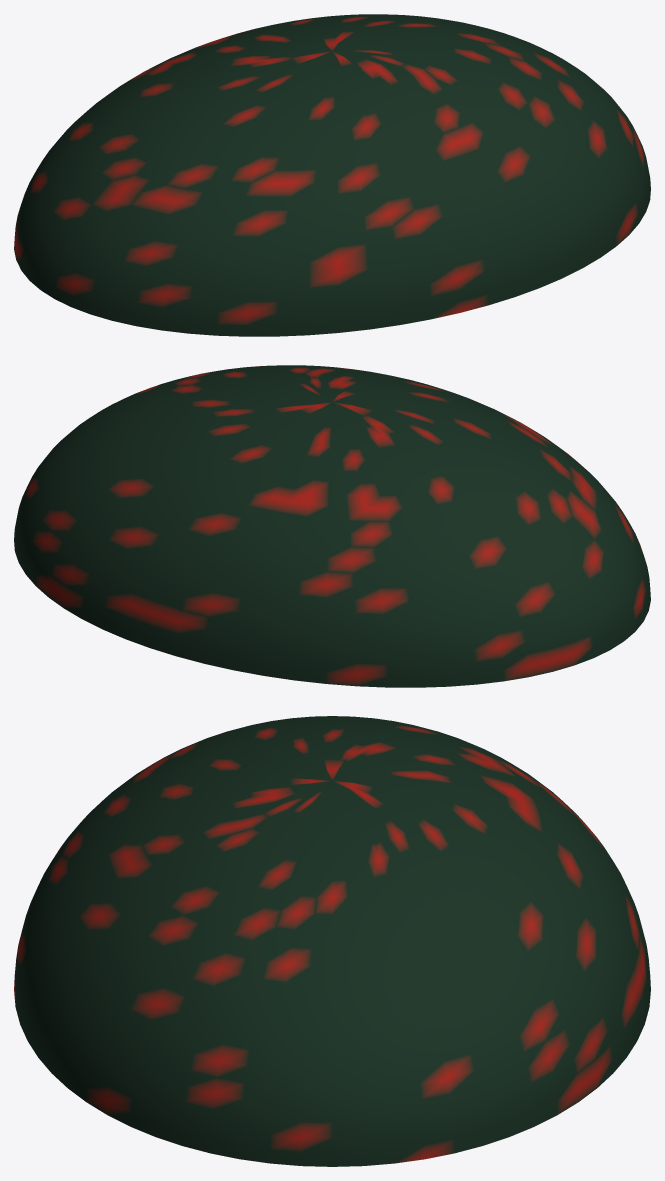
The model's file is bloodstone.glb.
3 renders of one model, top to bottom at view 1: azimuth 30°, elevation 25°; view 2: azimuth 150°, elevation 25°; view 3: azimuth 270°, elevation 25°, orthographic. The views are drawn at different scales.
Visible parts, largest first — view 1: bloodstone; view 2: bloodstone; view 3: bloodstone.
Boxes of the visible parts, <box> form: bloodstone: <box>14,14,650,336</box>; bloodstone: <box>14,365,650,687</box>; bloodstone: <box>14,716,650,1166</box>.
Size of the model in its own units: 0.25 by 0.0688 by 0.19.
